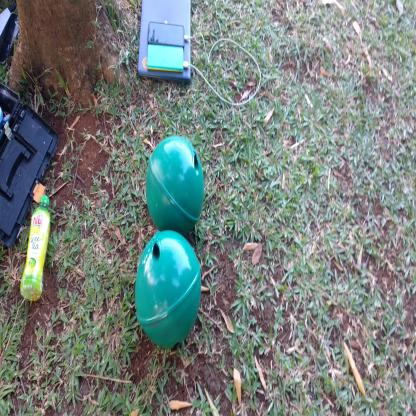green_buoy: (135, 229, 201, 353), (143, 132, 204, 232)
